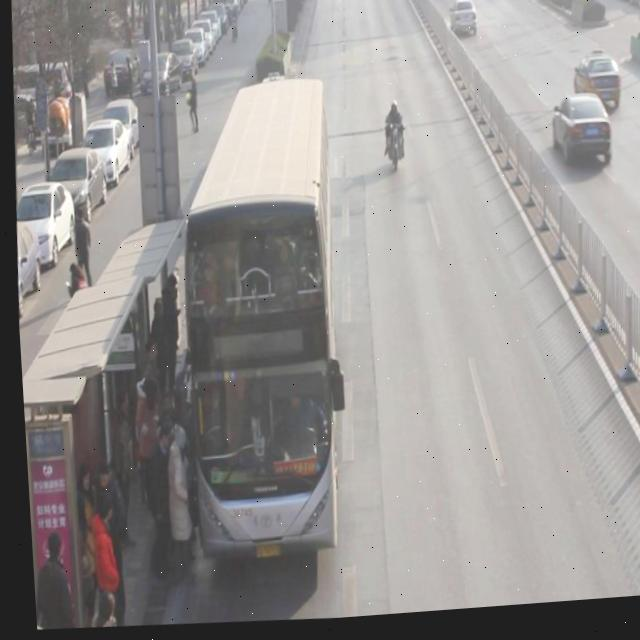car: (547, 101, 614, 182), (570, 56, 623, 124), (447, 5, 479, 47), (425, 0, 449, 5)
truck: (478, 0, 503, 3)
van: (160, 87, 346, 570)
